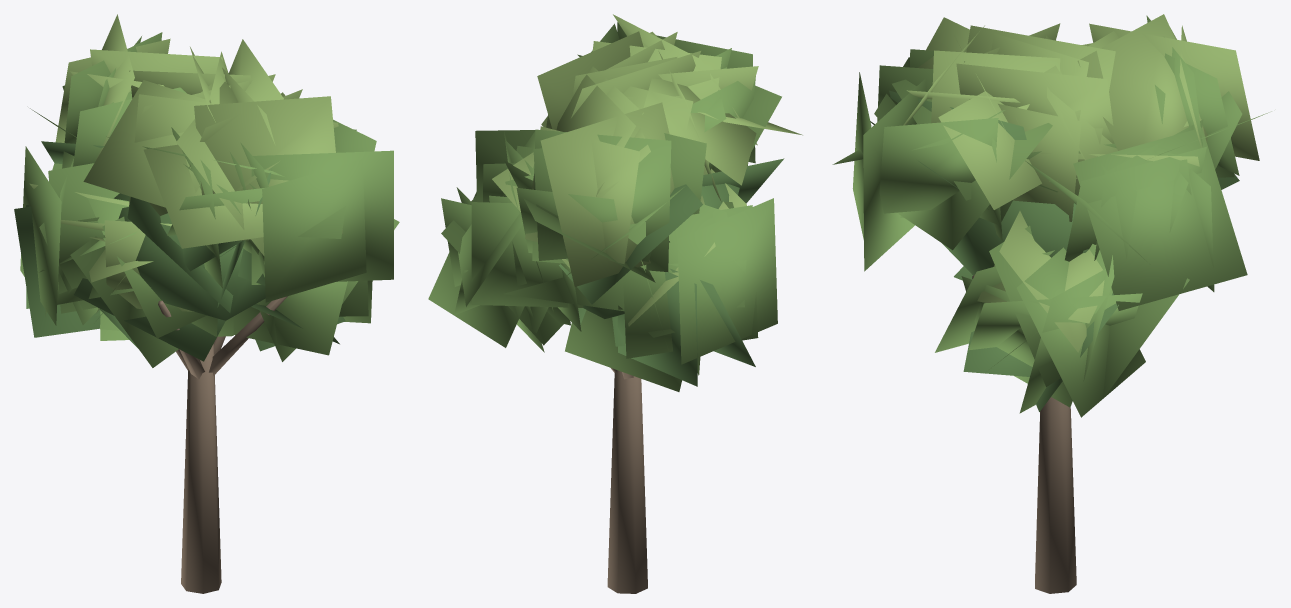
Rendered from oak.glb.
The picture shows the model from 3 angles, left to right: view 1: azimuth 30°, elevation 25°; view 2: azimuth 150°, elevation 25°; view 3: azimuth 270°, elevation 25°; orthographic projection. The views are drawn at different scales.
Visible parts, largest first — view 1: oak; view 2: oak; view 3: oak.
Boxes of the visible parts, x1,y1,x2,y2 form: oak: (14, 14, 399, 593); oak: (428, 14, 802, 593); oak: (832, 14, 1271, 593).
Size of the model in its own units: 5.56 by 8.15 by 6.06.
